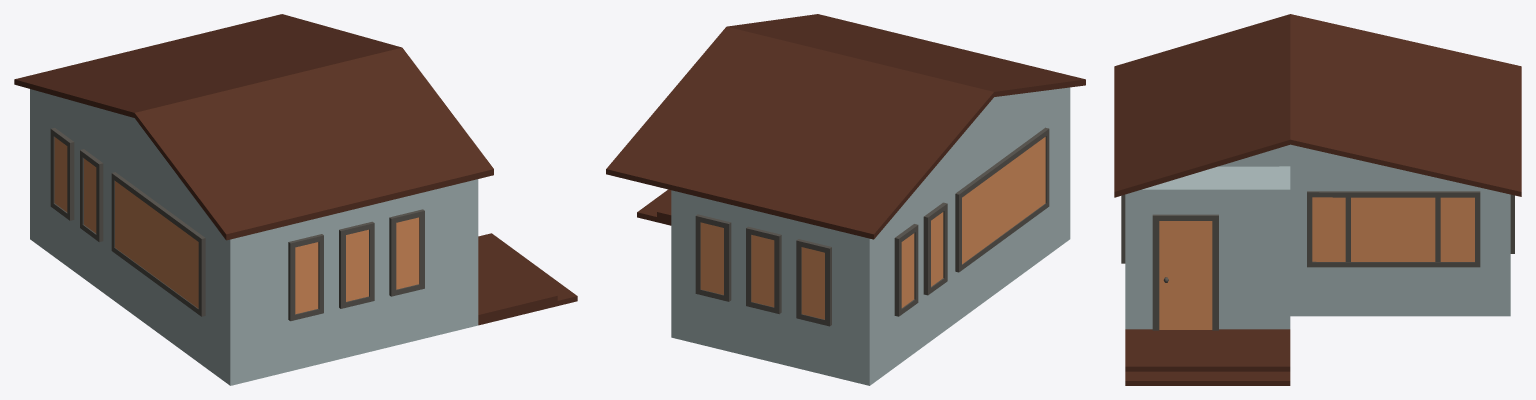
File: casa_01.fbx
3 renders of one model, left to right at view 1: azimuth 30°, elevation 25°; view 2: azimuth 150°, elevation 25°; view 3: azimuth 270°, elevation 25°, orthographic. The views are drawn at different scales.
Parts seen in each view (by area): view 1: Cube.002; view 2: Cube.002; view 3: Cube.002.
Part boxes in pixels (x1=…): Cube.002: x1=14, y1=14, x2=577, y2=385; Cube.002: x1=606, y1=14, x2=1085, y2=385; Cube.002: x1=1114, y1=14, x2=1521, y2=385.
Bounding box in the file's own units: 720 × 410 × 740.
